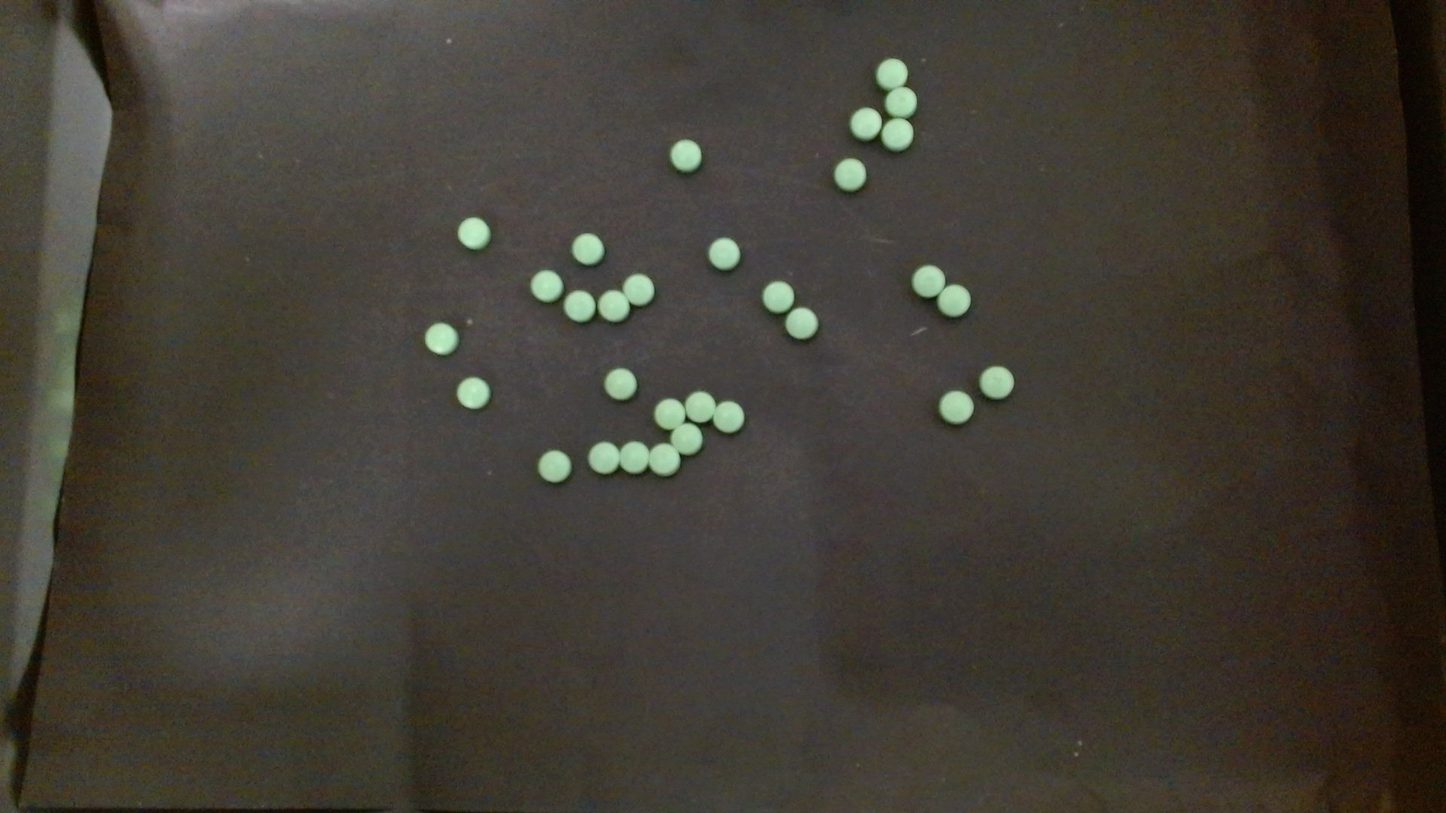Circle: (668, 139, 703, 174), (938, 390, 973, 424), (880, 117, 914, 151), (537, 449, 571, 483), (456, 376, 490, 410), (911, 263, 944, 297), (979, 366, 1013, 399), (424, 322, 458, 355), (456, 215, 490, 248), (875, 57, 908, 90), (849, 107, 881, 141), (786, 307, 818, 340), (938, 285, 971, 317), (712, 400, 744, 433), (604, 367, 636, 400), (707, 237, 740, 269), (834, 157, 866, 190), (762, 281, 794, 313), (571, 233, 603, 265), (588, 441, 619, 474), (671, 422, 702, 455), (654, 397, 685, 430), (623, 273, 654, 306), (530, 269, 561, 302), (563, 290, 594, 322), (883, 87, 916, 117), (685, 391, 715, 423), (598, 291, 628, 322), (620, 441, 649, 473), (650, 443, 679, 474)
